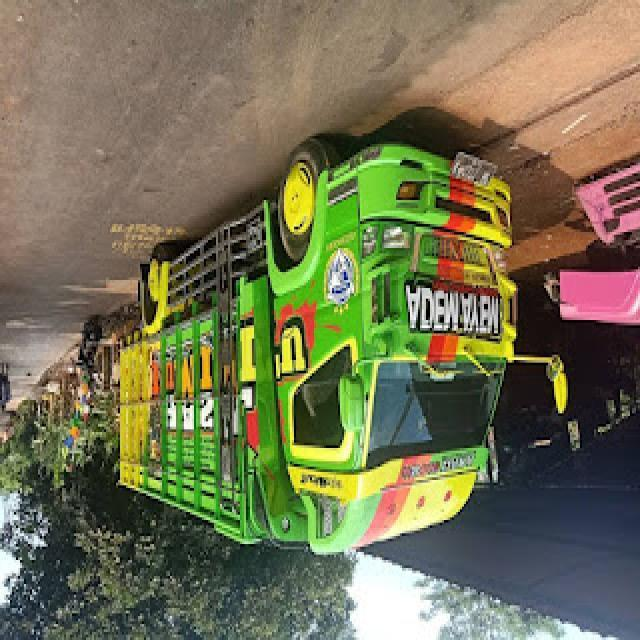truck: (114, 142, 568, 558)
